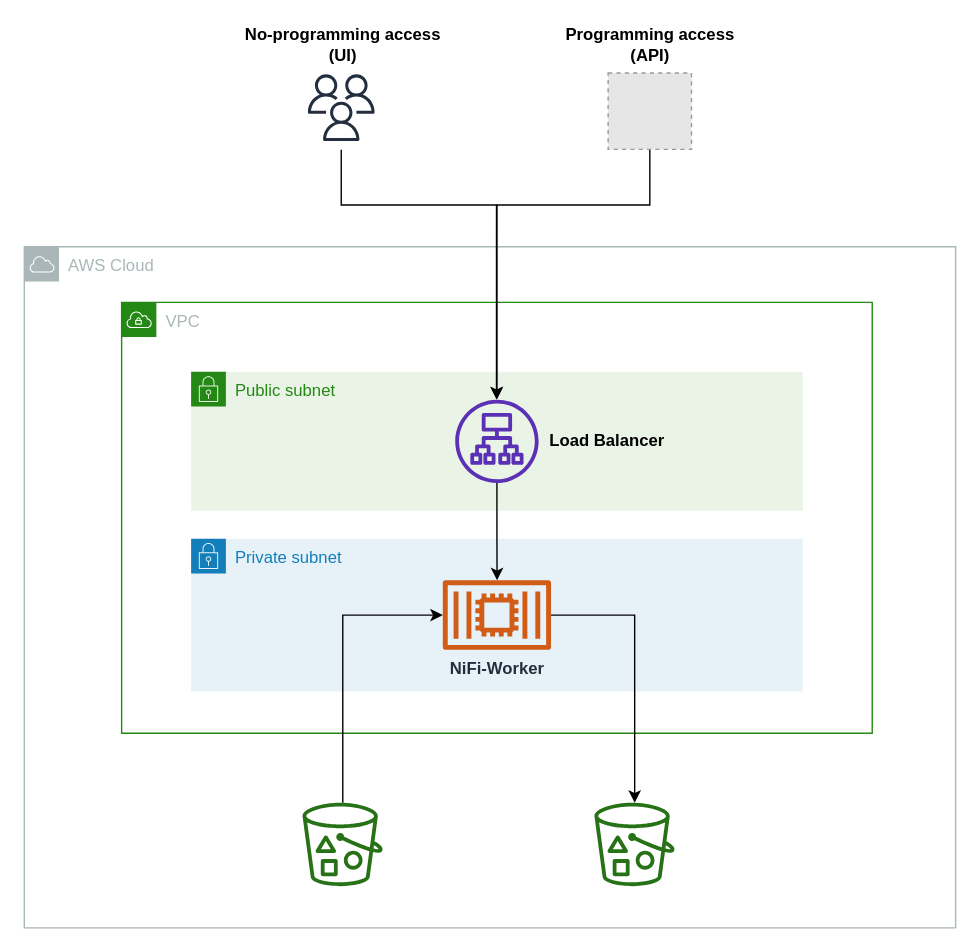
The diagram is 980 pixels wide and 952 high, and some of its shapes have lost their labels. Grey dashed boxes stand in for pictures. The shapes that lost their labels are listed below. From the top down, each one's centre as x and y in pixels, then its label:
At [342,843]: "Collection Bucket".
At [634,843]: "Storage Bucket".
